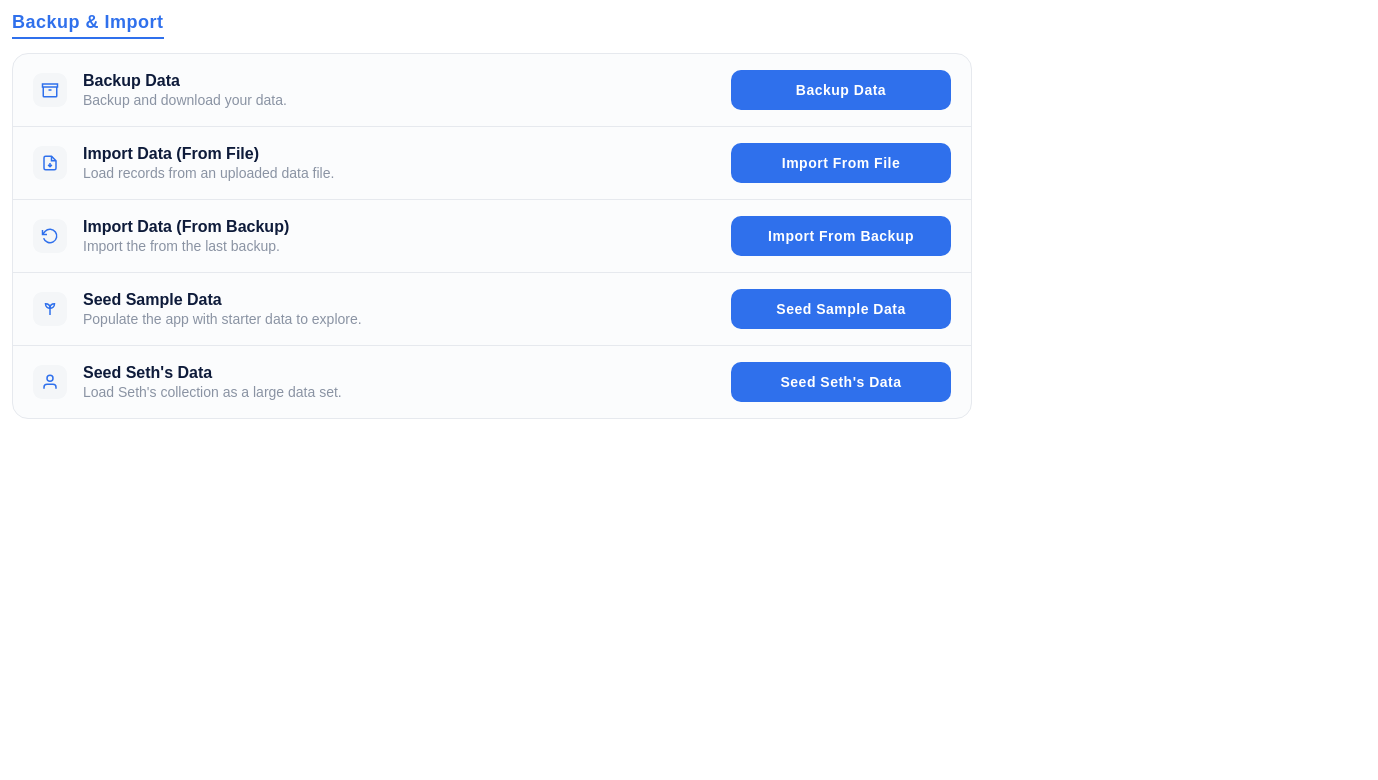
BackupImport › Seed Sample Data › surfaces the backend error detail in the snackbar on a non-OK response
This screenshot has width=1378, height=780.
What coordinates should you click on to do the following:
click the button "Seed Sample Data"
I would click on:
 (841, 309)
Its box is [731,289,951,329].
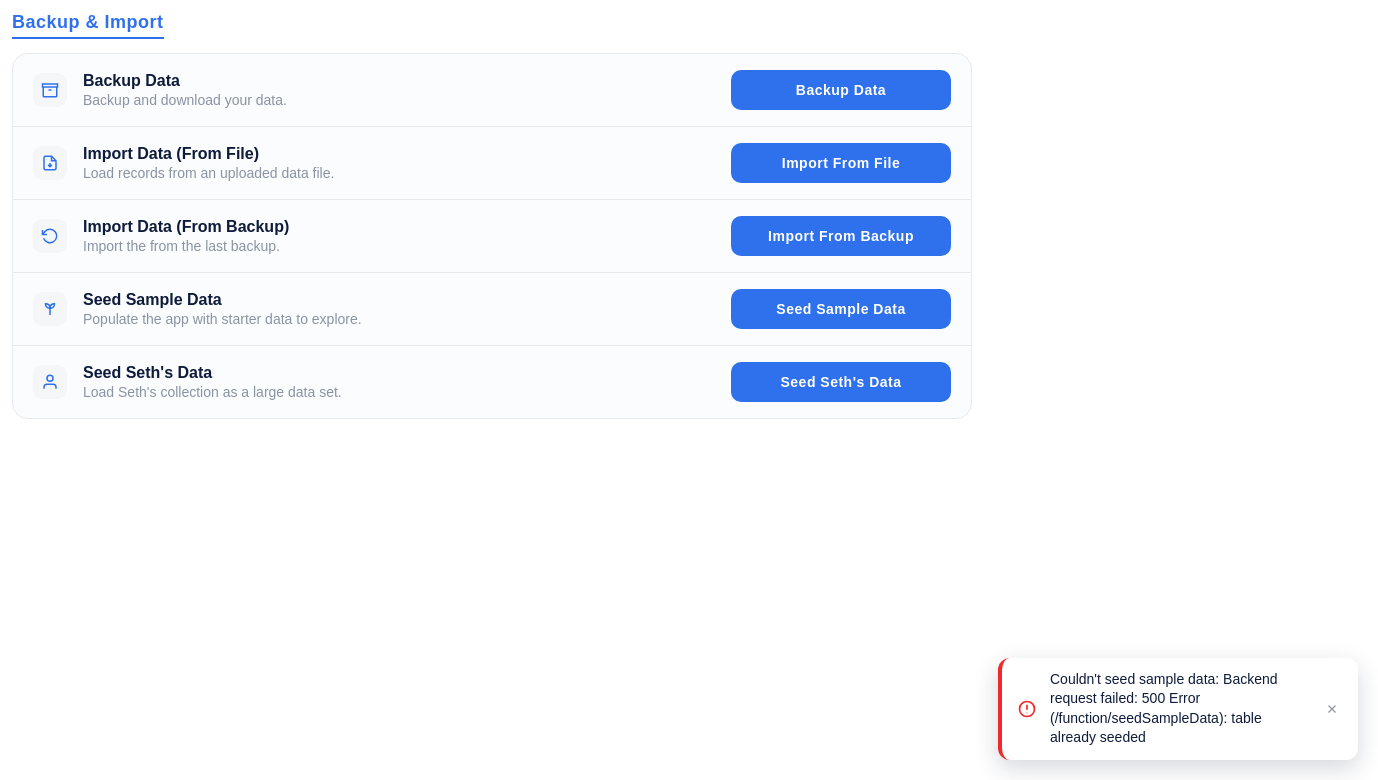
expect the text "table already seeded" is shown: met, box [1050,671,1278,745]
